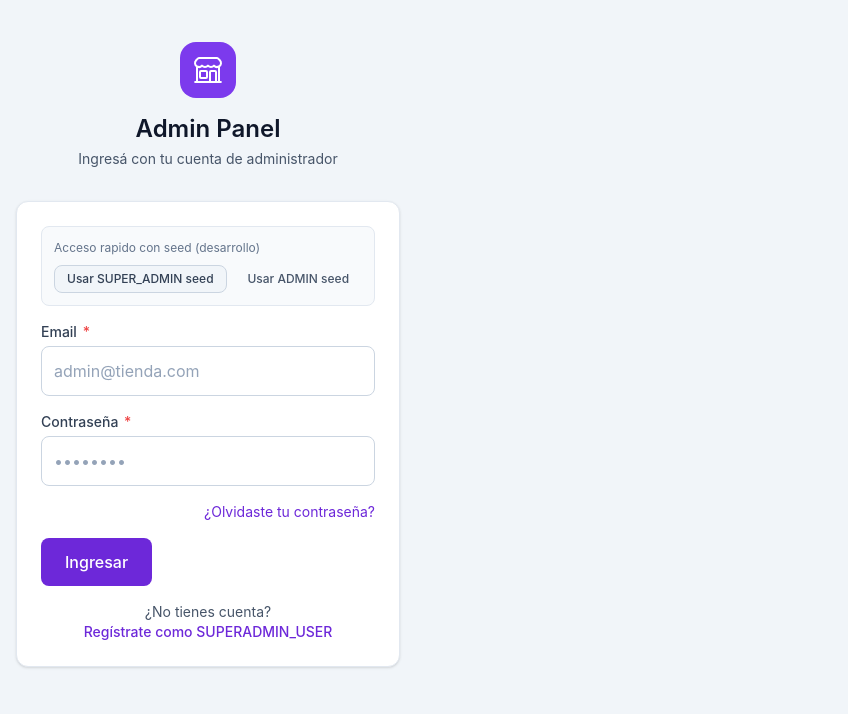
Test: Error Handling & Messages › Login form › should display error message on invalid credentials
Type "invalid@email.com" into the field labelled "Email *".
click(208, 371); type("invalid@email.com")  # box [41,346,375,396]
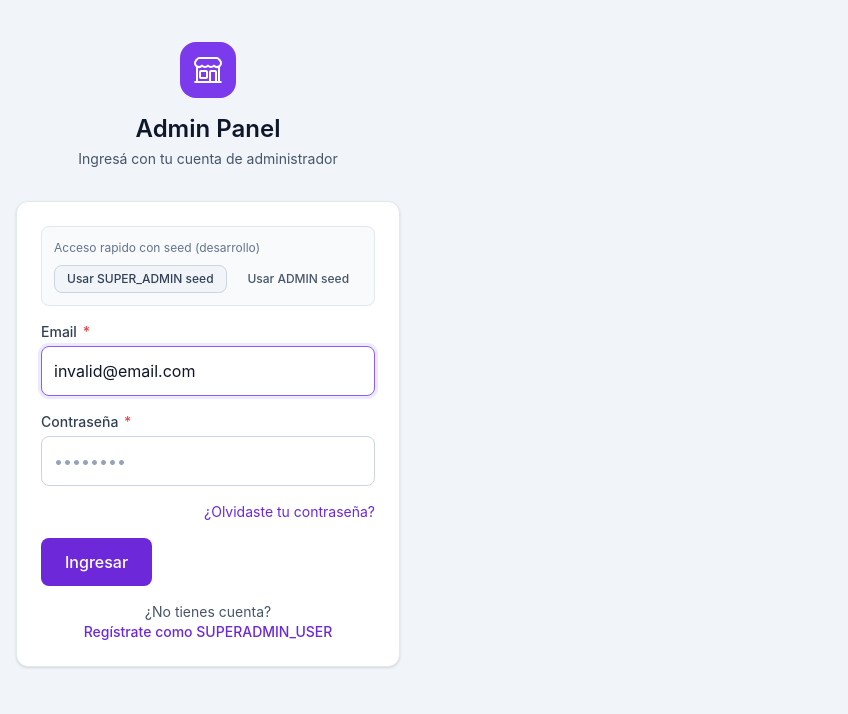
Type "wrongpassword" into the password field labelled "Contraseña *".
click(208, 461); type("wrongpassword")  # box [41,436,375,486]
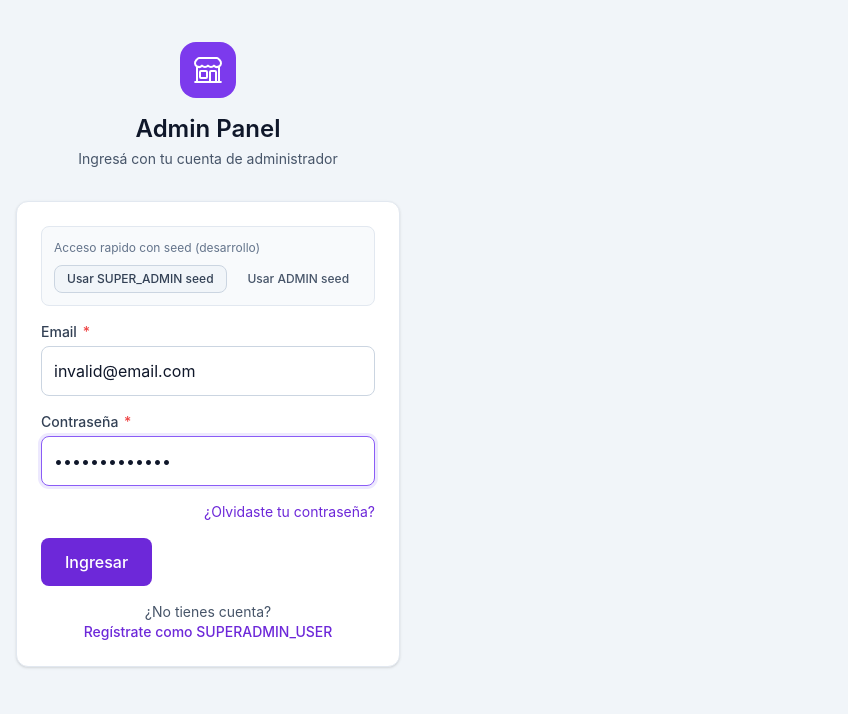
Click the submit button.
click(97, 562)  # box [41,538,152,586]
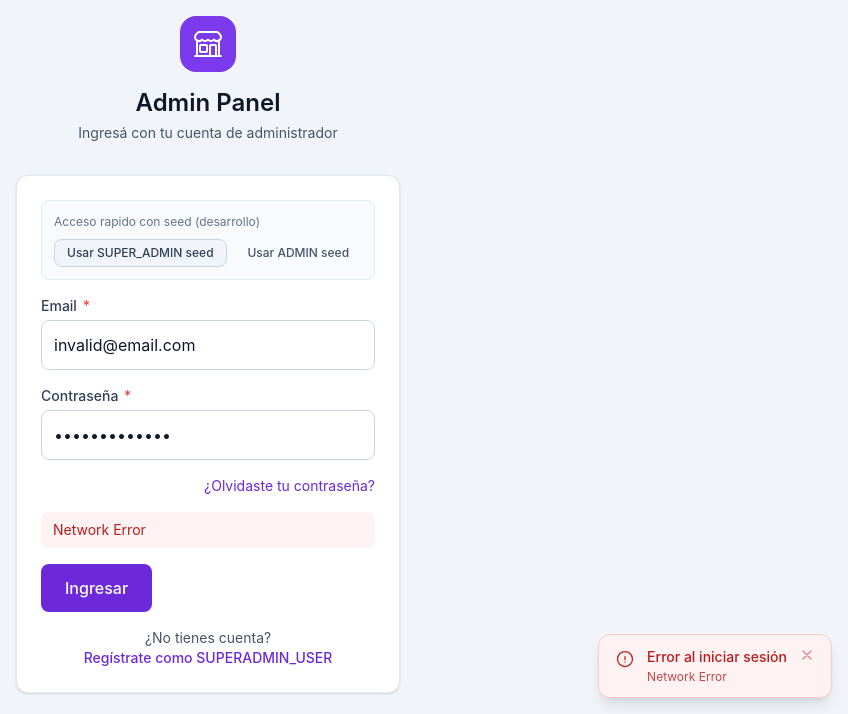
Now the message "Network Error" is shown, box [41,512,375,548]
